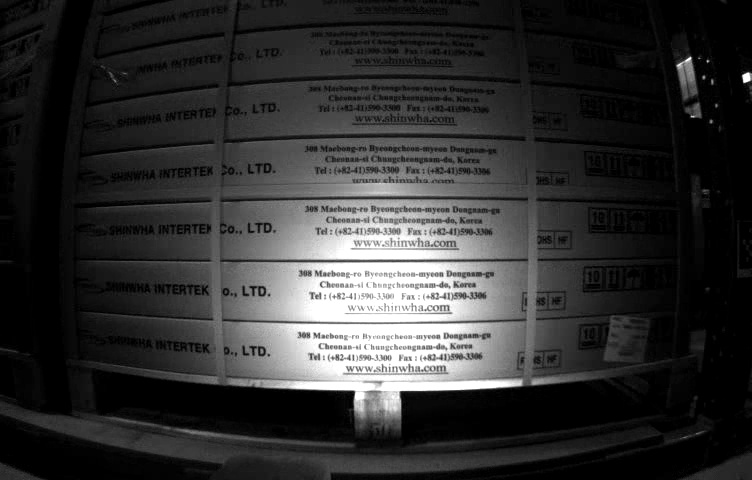True Barcode: (607, 314, 649, 364)
